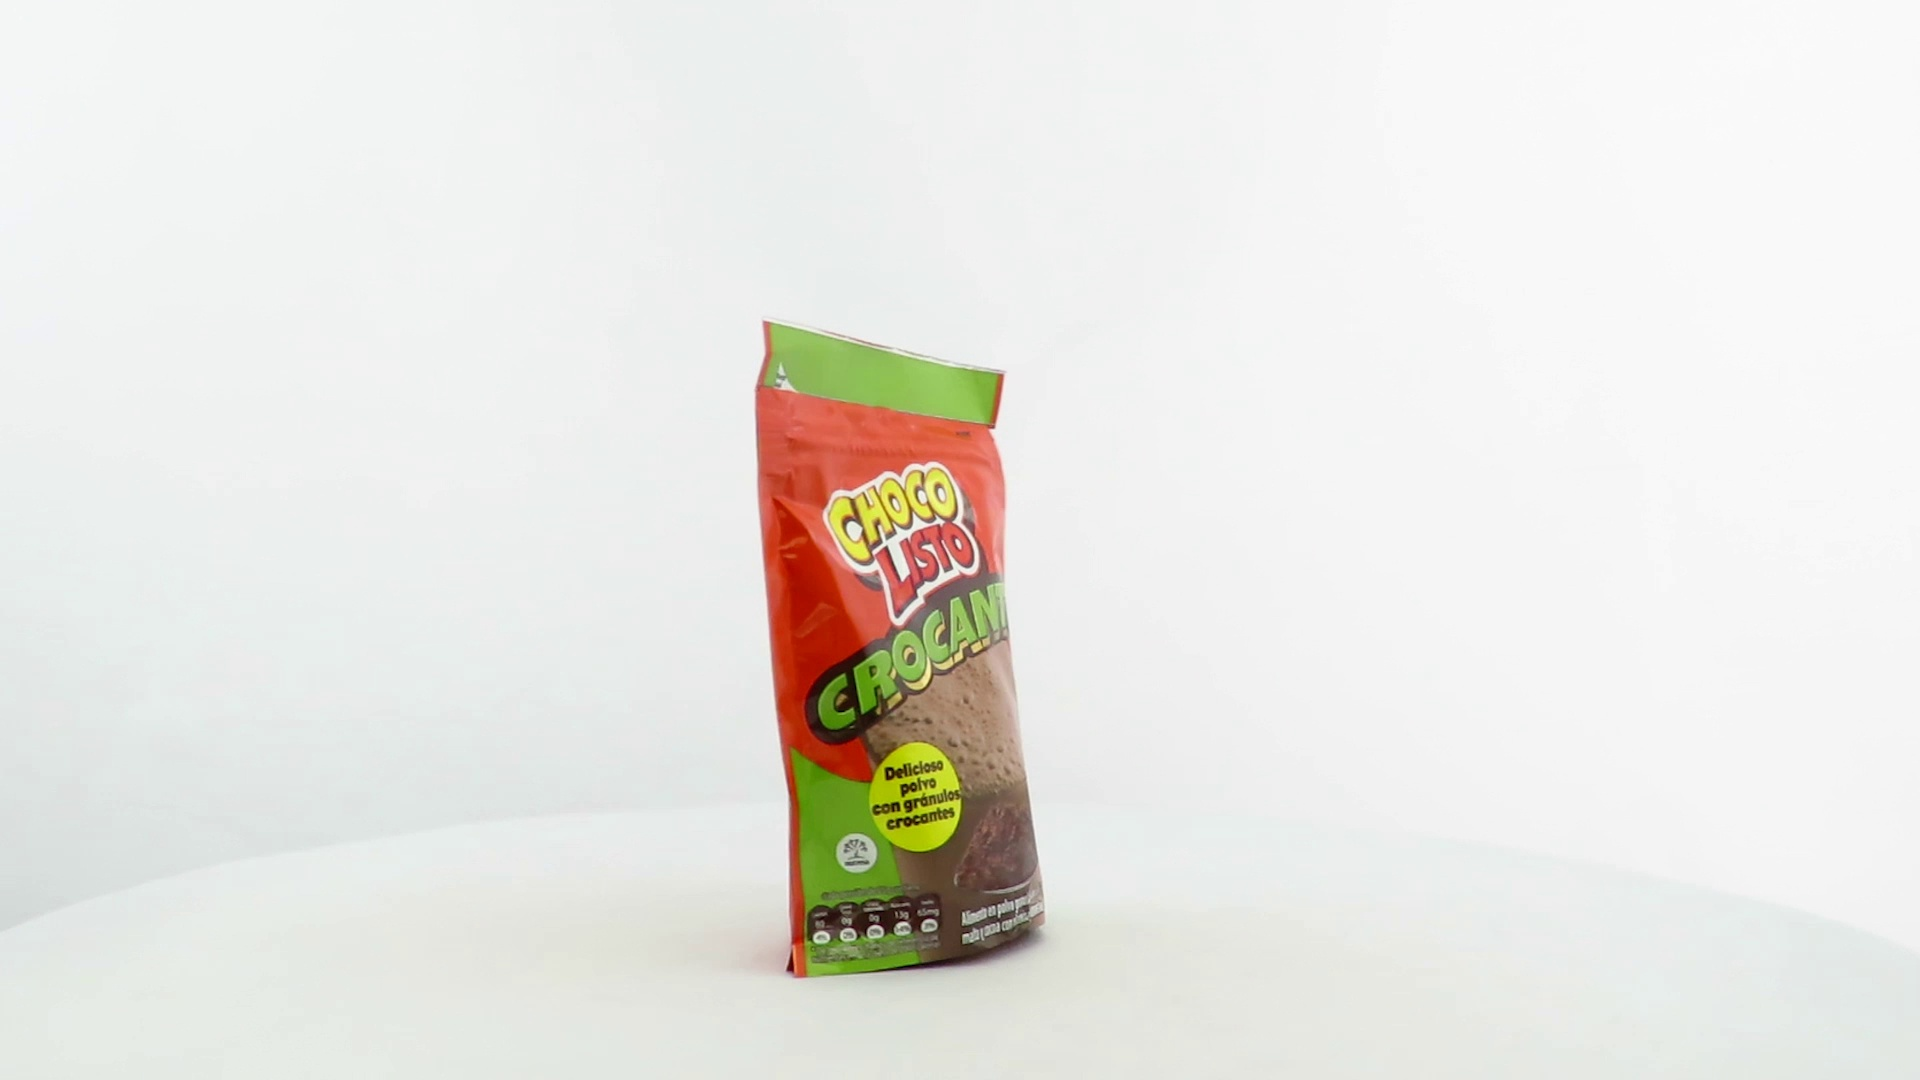COL0170102DYP10000: (750, 310, 1051, 985)
